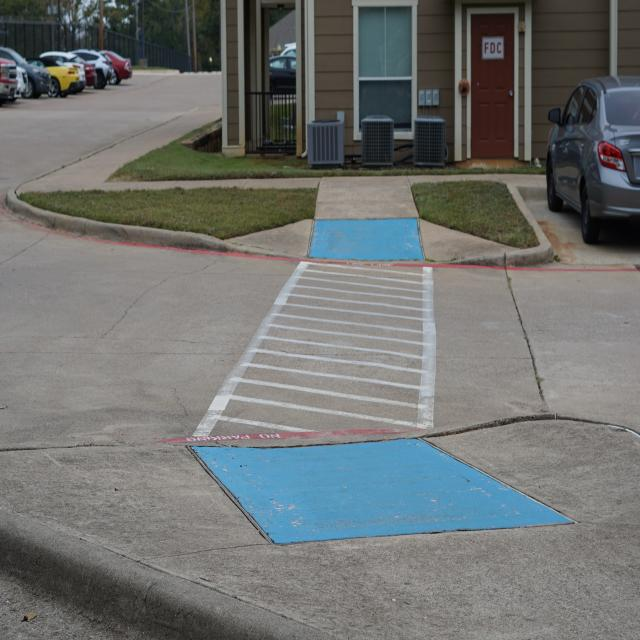Automobile: (546, 76, 640, 243), (0, 47, 132, 100), (270, 44, 296, 91)
Road: (0, 75, 640, 447)
Sidewalk: (0, 416, 640, 640), (12, 103, 544, 195), (232, 177, 517, 264)
